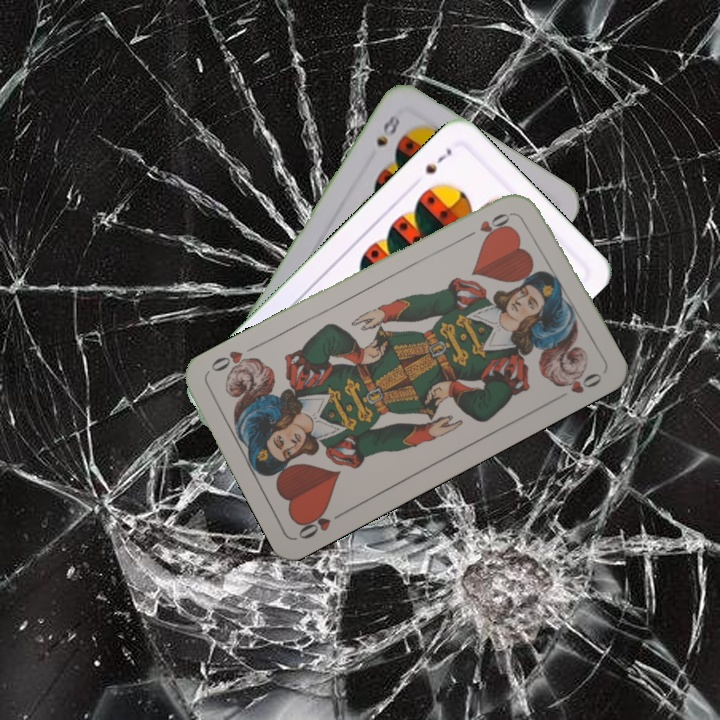HO: (294, 505, 348, 542), (462, 207, 518, 241)
S7: (421, 144, 455, 177)
S8: (372, 109, 405, 149)
